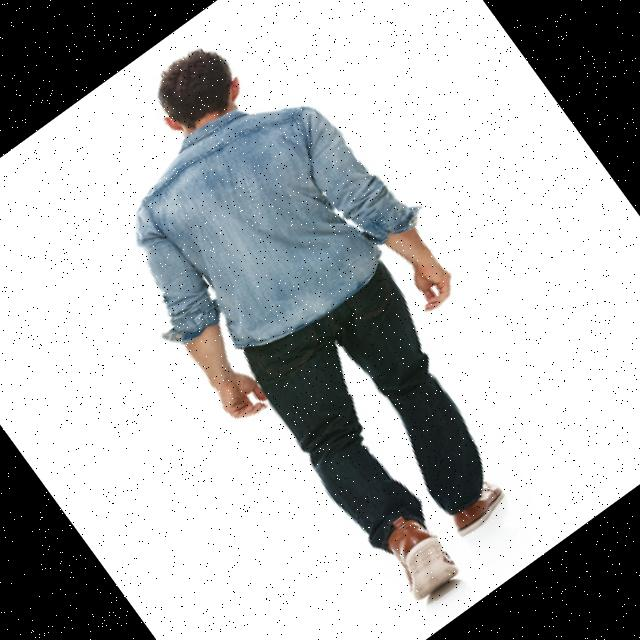Person: (32, 0, 610, 635)
